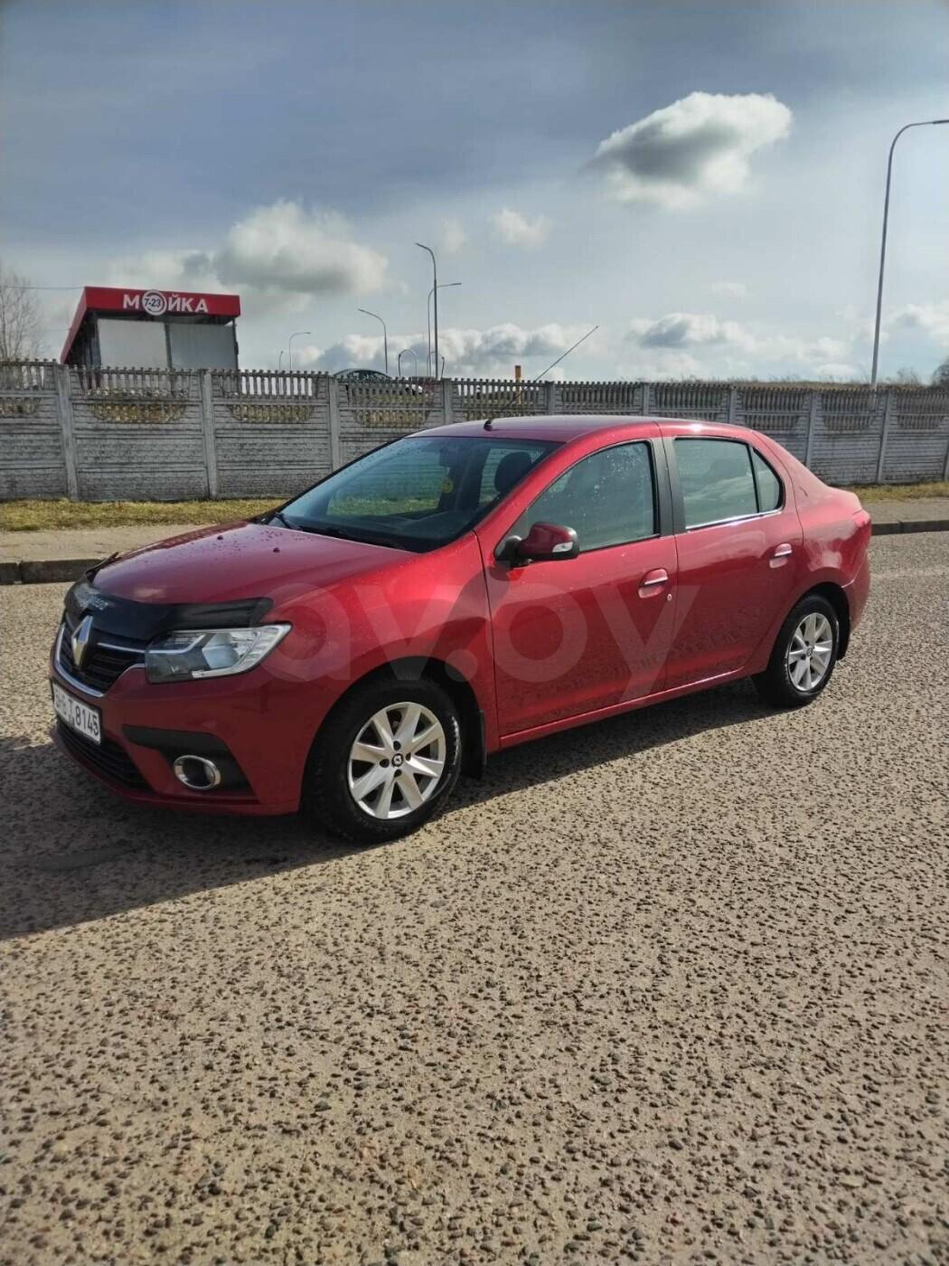Logan_2018: (40, 412, 871, 890)
